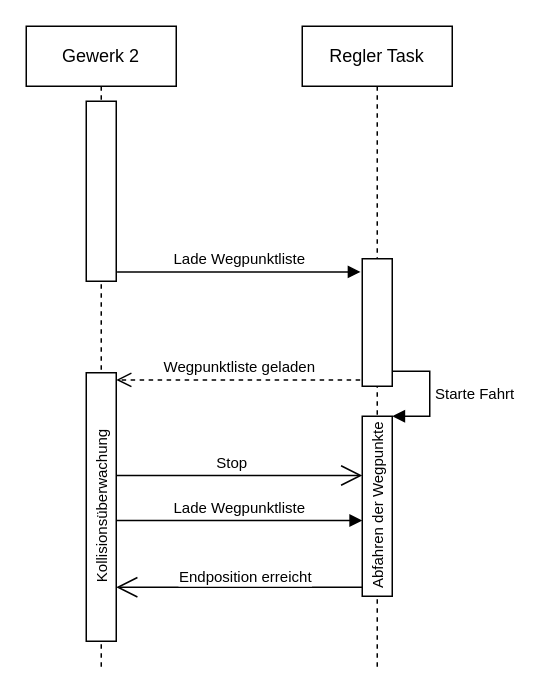
The diagram is 542 pixels wide and 698 high, and some of its shapes have lost their labels. Each missing label, with the centre of its shape:
"Liste einlesen" goes at [376,321].
"Wegpunktliste berechnen" goes at [100,190].
